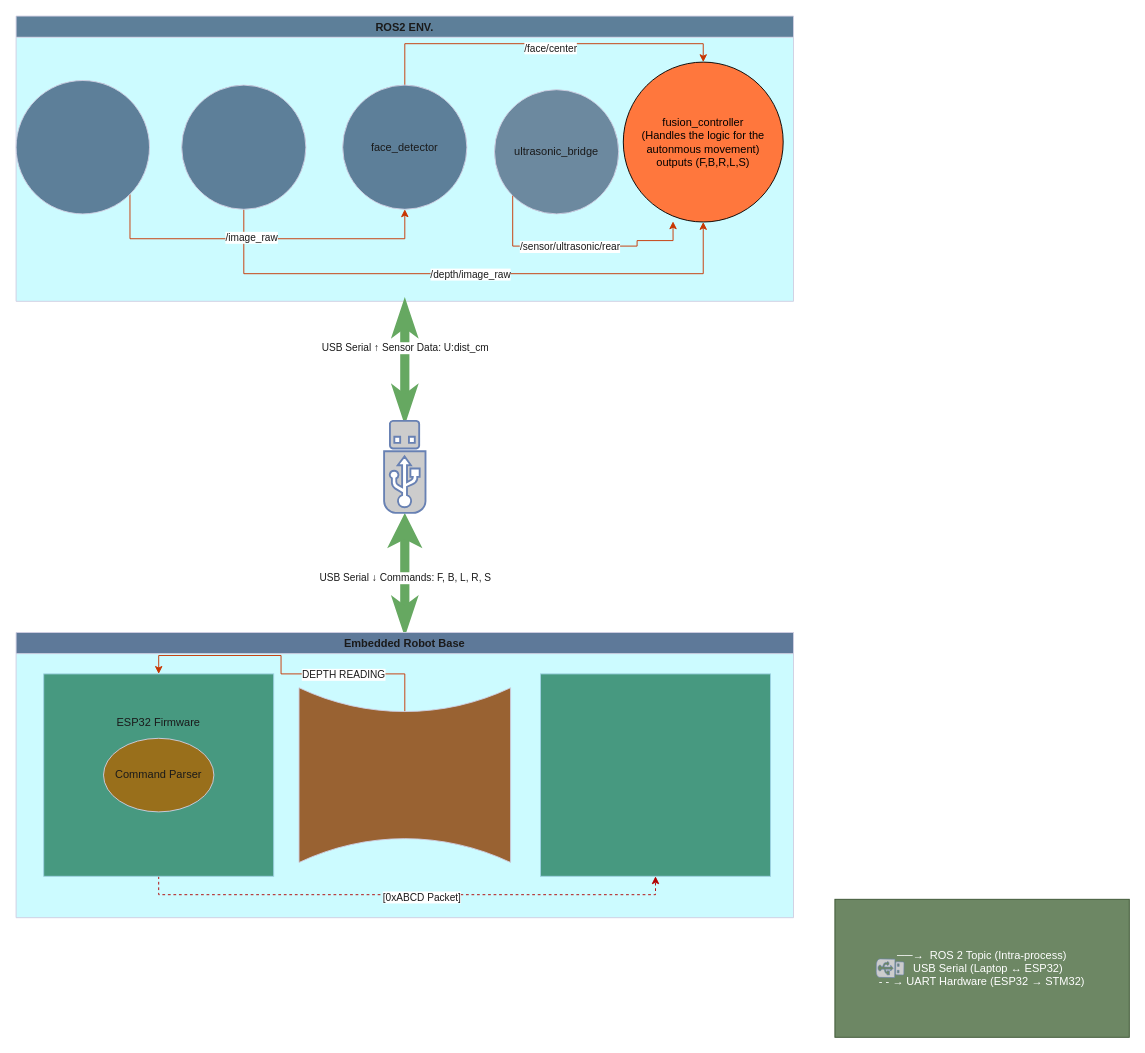
Some shapes in this 1145 by 1053 pixel diagram are drawn without their labels. Each missing label, with the centre of its shape:
azure_kinect_publisher: [243,146]
Hoverboard STM32: [655,774]
ULTRASONIC: [404,774]
usb_cam_node: [82,147]
